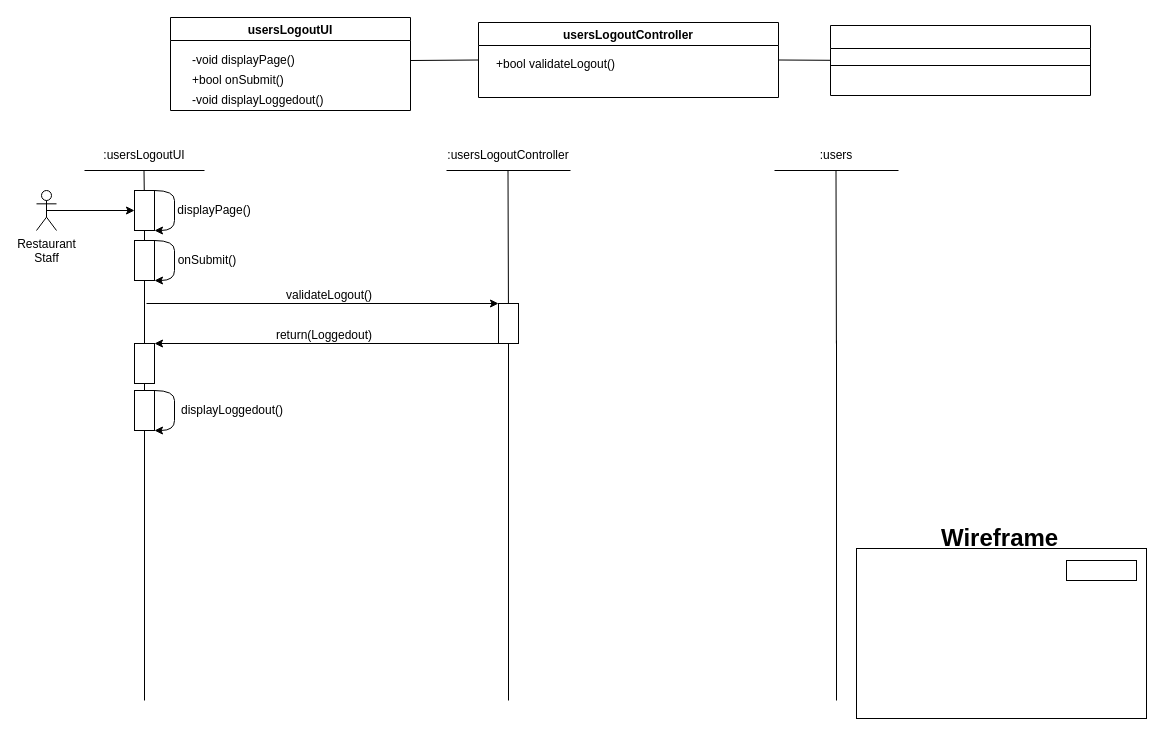
Image size: 1164x736. Some labels were removed from this diagram. Each missing label, with the box of its shape:
Log out: (1066, 560, 1136, 580)
users: (830, 24, 1090, 96)
